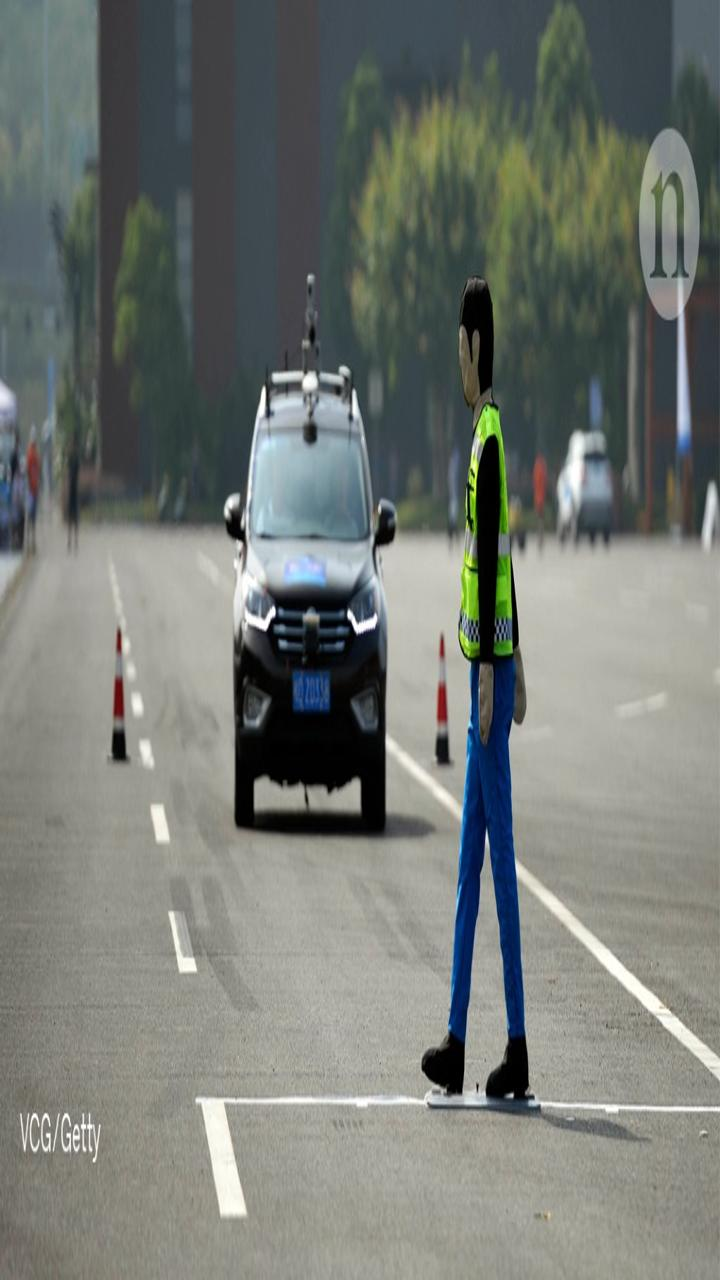pedestrian: (412, 271, 584, 1113)
vehicle: (226, 327, 410, 847)
